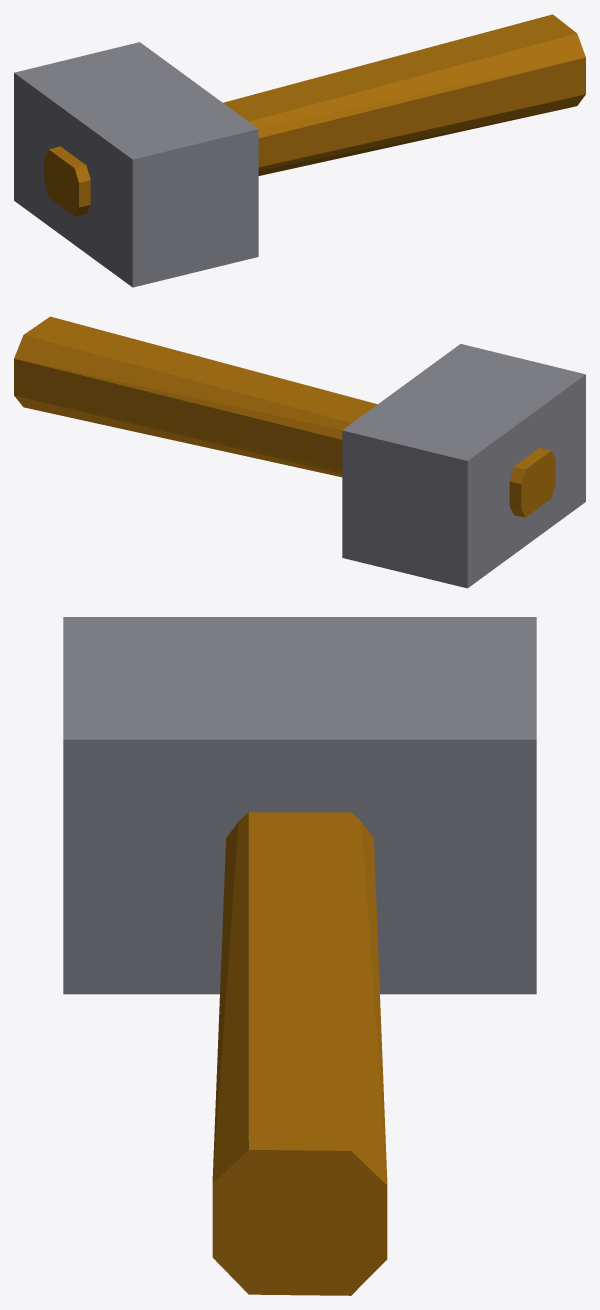
The model's file is hammer.fbx.
The picture shows the model from 3 angles, top to bottom: view 1: azimuth 30°, elevation 25°; view 2: azimuth 150°, elevation 25°; view 3: azimuth 270°, elevation 25°; orthographic projection. The views are drawn at different scales.
Visible parts, largest first — view 1: hammer; view 2: hammer; view 3: hammer.
Boxes of the visible parts, x1,y1,x2,y2 form: hammer: [14, 14, 585, 287]; hammer: [14, 316, 585, 588]; hammer: [63, 617, 536, 1295].
Bounding box in the file's own units: 74.17 × 17.98 × 30.25.
